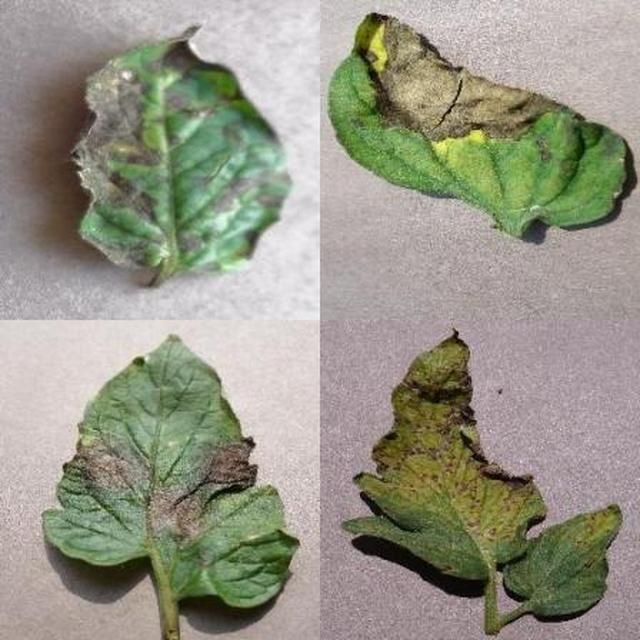Early Blight Leaf: (247, 170, 640, 640)
